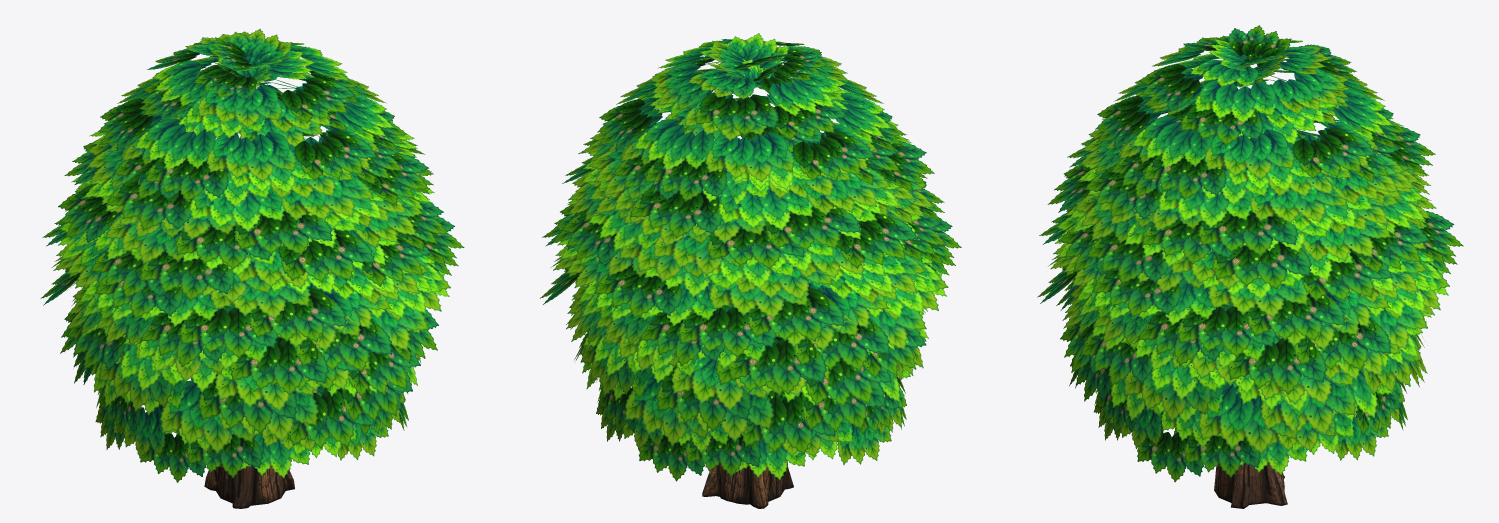
File: Beech.fbx
The picture shows the model from 3 angles, left to right: view 1: azimuth 30°, elevation 25°; view 2: azimuth 150°, elevation 25°; view 3: azimuth 270°, elevation 25°; orthographic projection.
Visible parts, largest first — view 1: Leaves, Trunk; view 2: Leaves, Trunk; view 3: Leaves, Trunk.
Part boxes in pixels (x1,y1,x2,y2): Leaves: (40,29,464,482); Trunk: (204,464,294,508); Leaves: (540,33,961,481); Trunk: (702,462,793,508); Leaves: (1037,25,1463,482); Trunk: (1214,462,1287,508).
Size of the model in its own units: 854 by 891 by 850.
Materials: 2 (2 with a texture image).
